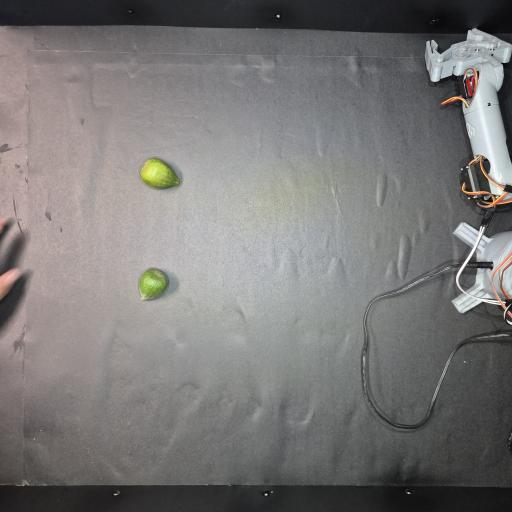higo: (140, 158, 179, 188), (139, 268, 168, 300)
